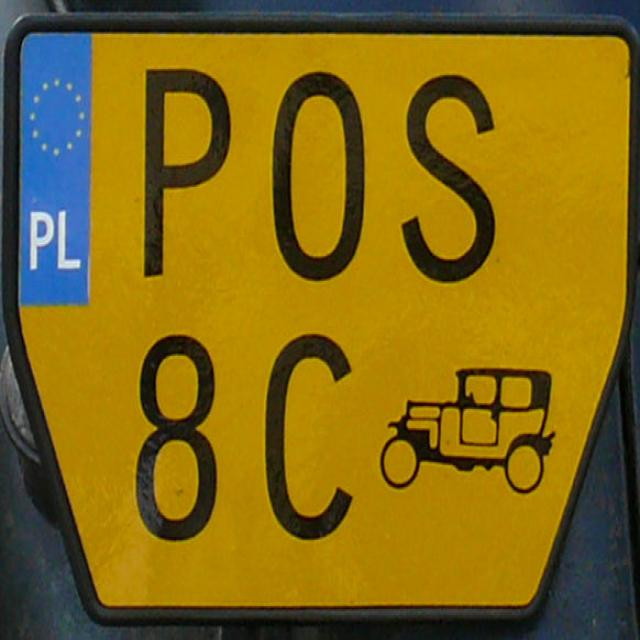pl_license_plate: (14, 24, 631, 616)
